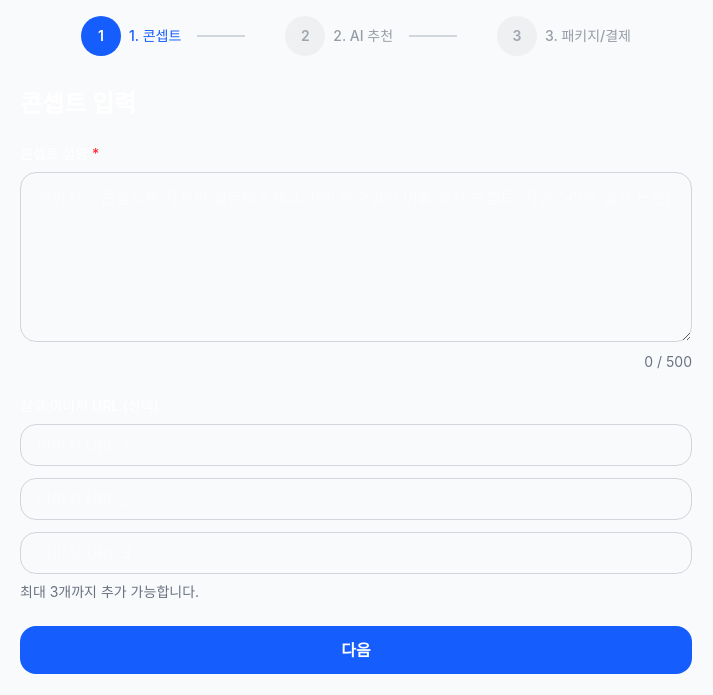
BookingWizard › Test 2: 콘셉트 입력 후 제출 › validates concept description is required
The image size is (713, 695).
(page scrolled)
Click the button "다음": (356, 650) [20,626,692,674]
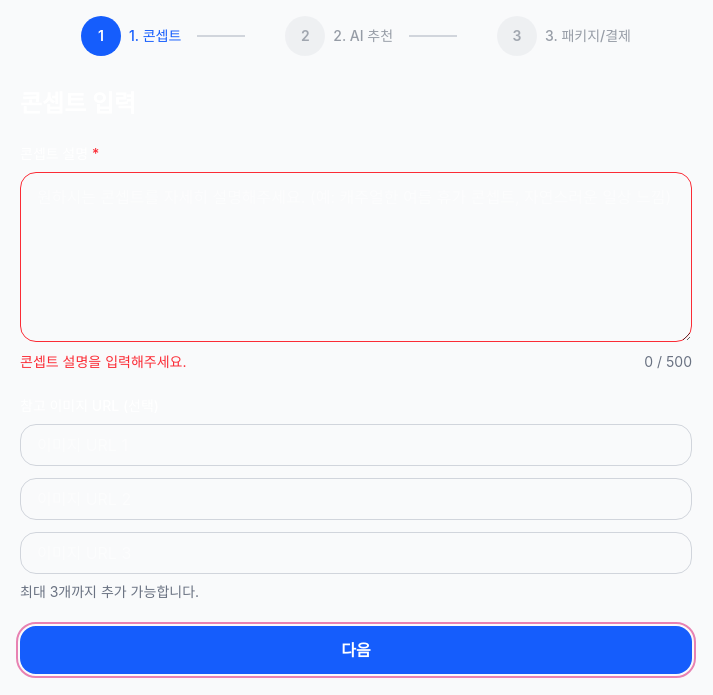
Now the text "콘셉트 설명을 입력해주세요." is shown, box [20,352,186,372]
